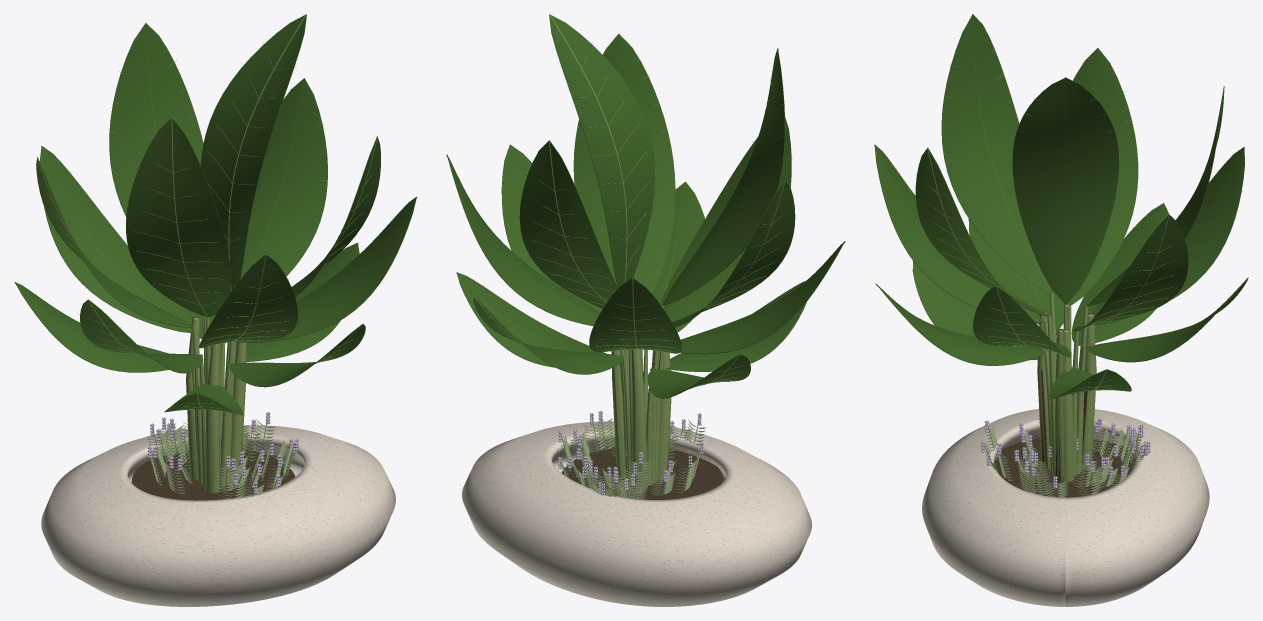
Rendered from G24_banana_pebble_planter.glb.
The picture shows the model from 3 angles, left to right: view 1: azimuth 30°, elevation 25°; view 2: azimuth 150°, elevation 25°; view 3: azimuth 270°, elevation 25°; orthographic projection.
Visible parts, largest first — view 1: item / Broad green banana leaves, item / Shared warm ivory fine granular stone, item / Green stalks and veins, item / Fine grey-green lavender foliage, item / Exposed dark planting substrate, item / Pale lilac small flower petals; view 2: item / Broad green banana leaves, item / Shared warm ivory fine granular stone, item / Green stalks and veins, item / Fine grey-green lavender foliage, item / Exposed dark planting substrate, item / Pale lilac small flower petals, item / Lavender pale lilac flower tips; view 3: item / Broad green banana leaves, item / Shared warm ivory fine granular stone, item / Green stalks and veins, item / Fine grey-green lavender foliage, item / Exposed dark planting substrate, item / Pale lilac small flower petals, item / Lavender pale lilac flower tips, item / Dark brown branched wood.
Boxes of the visible parts, x1,y1,x2,y2 form: item / Broad green banana leaves: (15, 15, 416, 415); item / Shared warm ivory fine granular stone: (41, 425, 395, 606); item / Green stalks and veins: (14, 14, 417, 493); item / Fine grey-green lavender foliage: (147, 415, 296, 499); item / Exposed dark planting substrate: (131, 449, 295, 500); item / Pale lilac small flower petals: (148, 412, 298, 494); item / Broad green banana leaves: (447, 14, 844, 398); item / Shared warm ivory fine granular stone: (462, 421, 811, 606); item / Green stalks and veins: (446, 14, 845, 491); item / Fine grey-green lavender foliage: (559, 414, 705, 499); item / Exposed dark planting substrate: (561, 447, 723, 499); item / Pale lilac small flower petals: (558, 411, 703, 495); item / Lavender pale lilac flower tips: (558, 411, 703, 494); item / Broad green banana leaves: (874, 14, 1247, 398); item / Shared warm ivory fine granular stone: (922, 409, 1209, 606); item / Green stalks and veins: (874, 14, 1248, 482); item / Fine grey-green lavender foliage: (984, 415, 1146, 497); item / Exposed dark planting substrate: (994, 438, 1136, 497); item / Pale lilac small flower petals: (981, 418, 1150, 488); item / Lavender pale lilac flower tips: (981, 418, 1150, 488); item / Dark brown branched wood: (1041, 368, 1088, 481).
Bounding box in the file's own units: 1.28 × 1.98 × 1.26.
8 materials, 4 textured.
